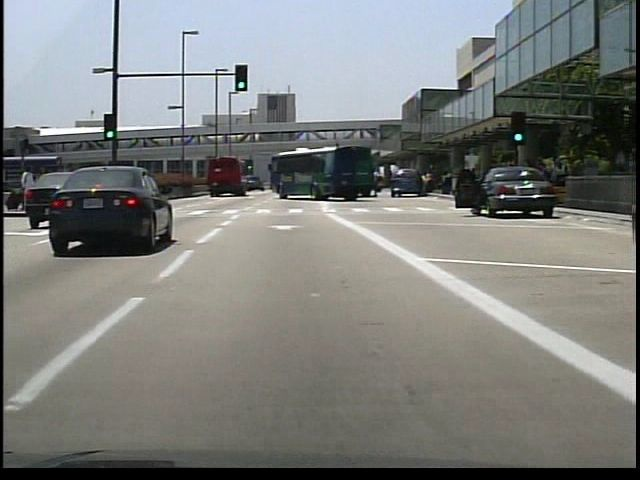person: (417, 168, 429, 195)
